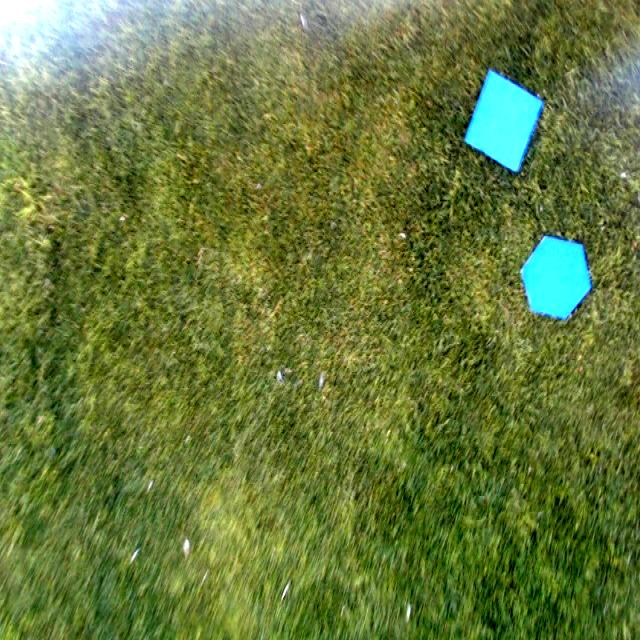blue_hexagon: (520, 235, 592, 320)
blue_square: (464, 69, 544, 173)
